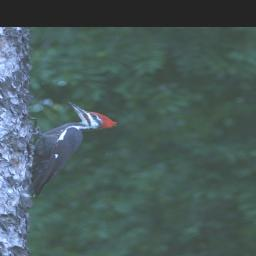Woodpecker: (25, 98, 116, 201)
